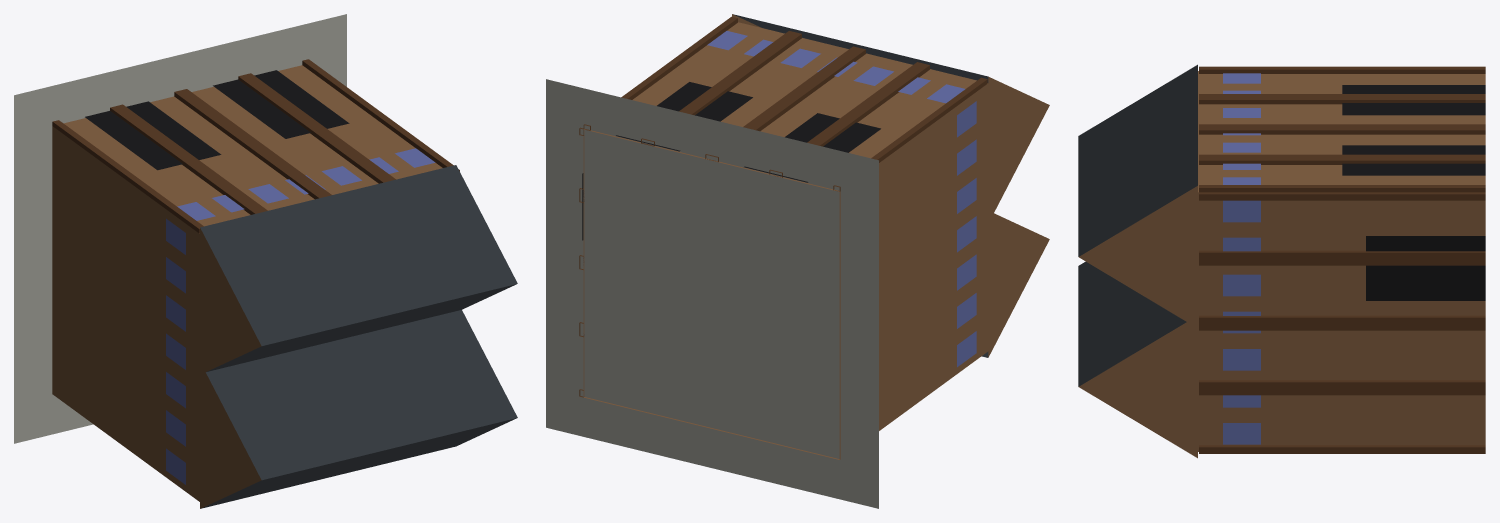
File: complete.glb
3 views of the same model, side by side, from view 1: azimuth 30°, elevation 25°; view 2: azimuth 150°, elevation 25°; view 3: azimuth 270°, elevation 25° (orthographic). The views are drawn at different scales.
Parts seen in each view (by area): view 1: complete; view 2: complete; view 3: complete.
Part boxes in pixels (x1=…): complete: x1=14, y1=14, x2=517, y2=508; complete: x1=546, y1=14, x2=1049, y2=508; complete: x1=1078, y1=64, x2=1485, y2=458.
Bounding box in the file's own units: 15.6 × 15.6 × 17.05.
